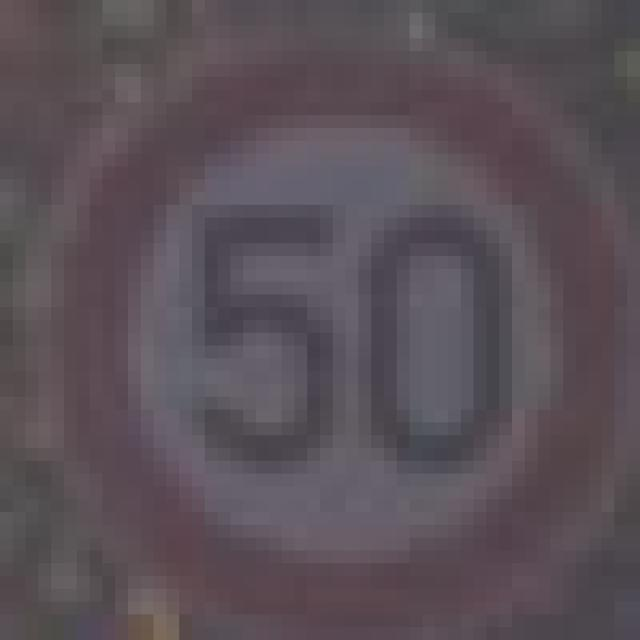speed_limit_30: (51, 38, 627, 614)
